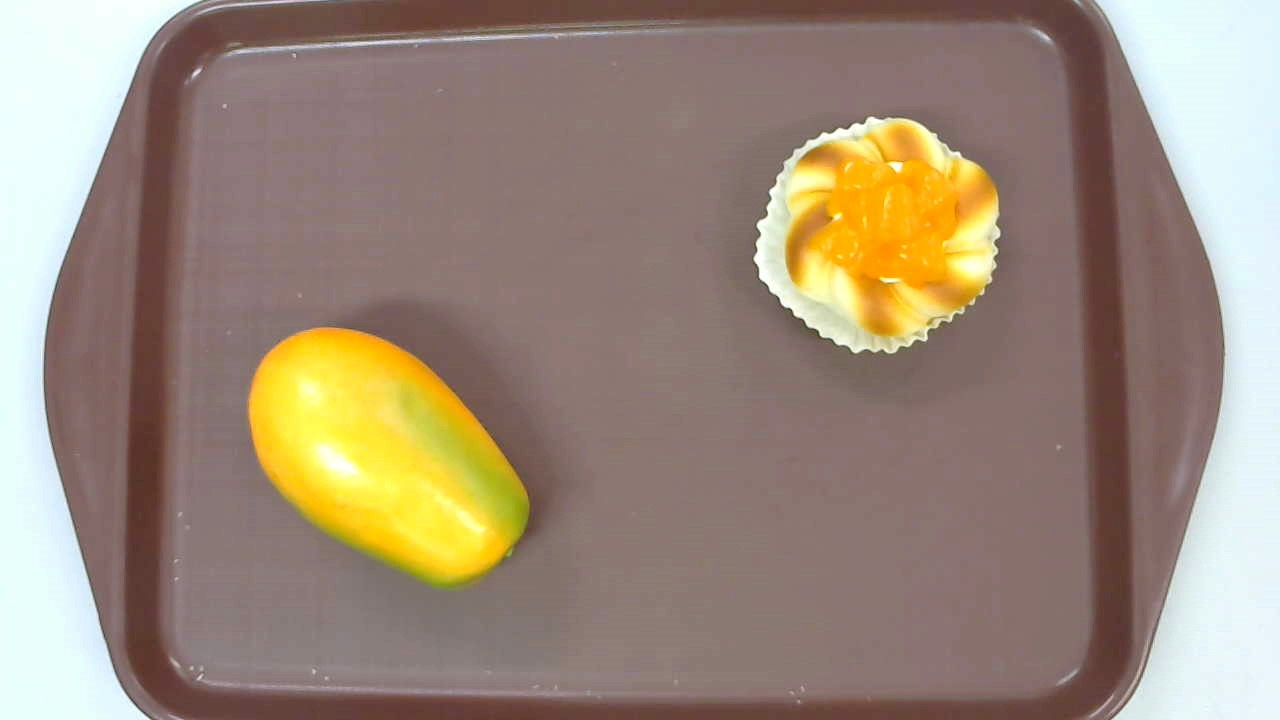mango tart: (753, 116, 1002, 354)
papya: (247, 327, 529, 591)
